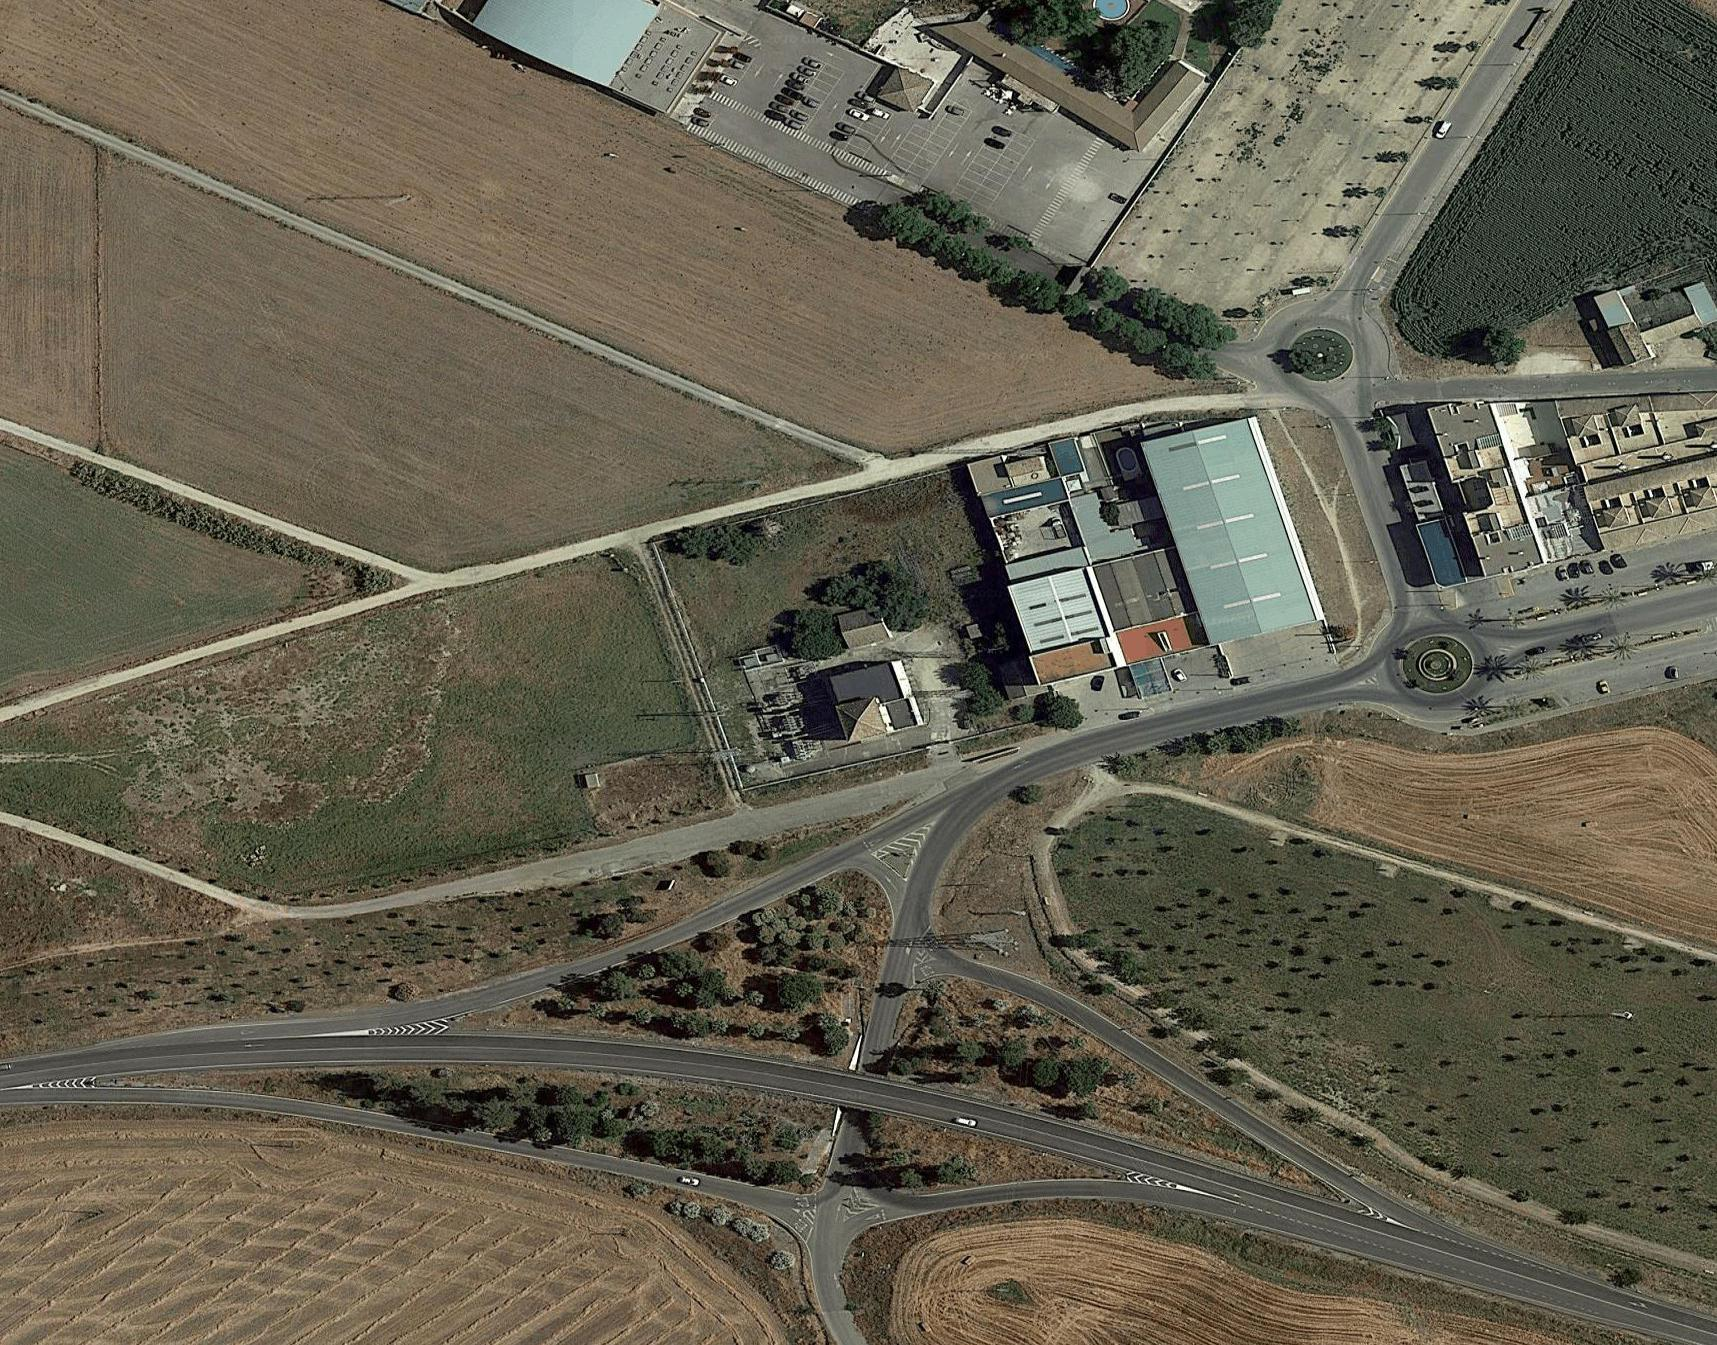substation: (737, 663, 826, 765)
